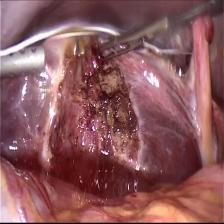Grasper: (96, 26, 148, 66)
Irrigator: (0, 38, 48, 88)
